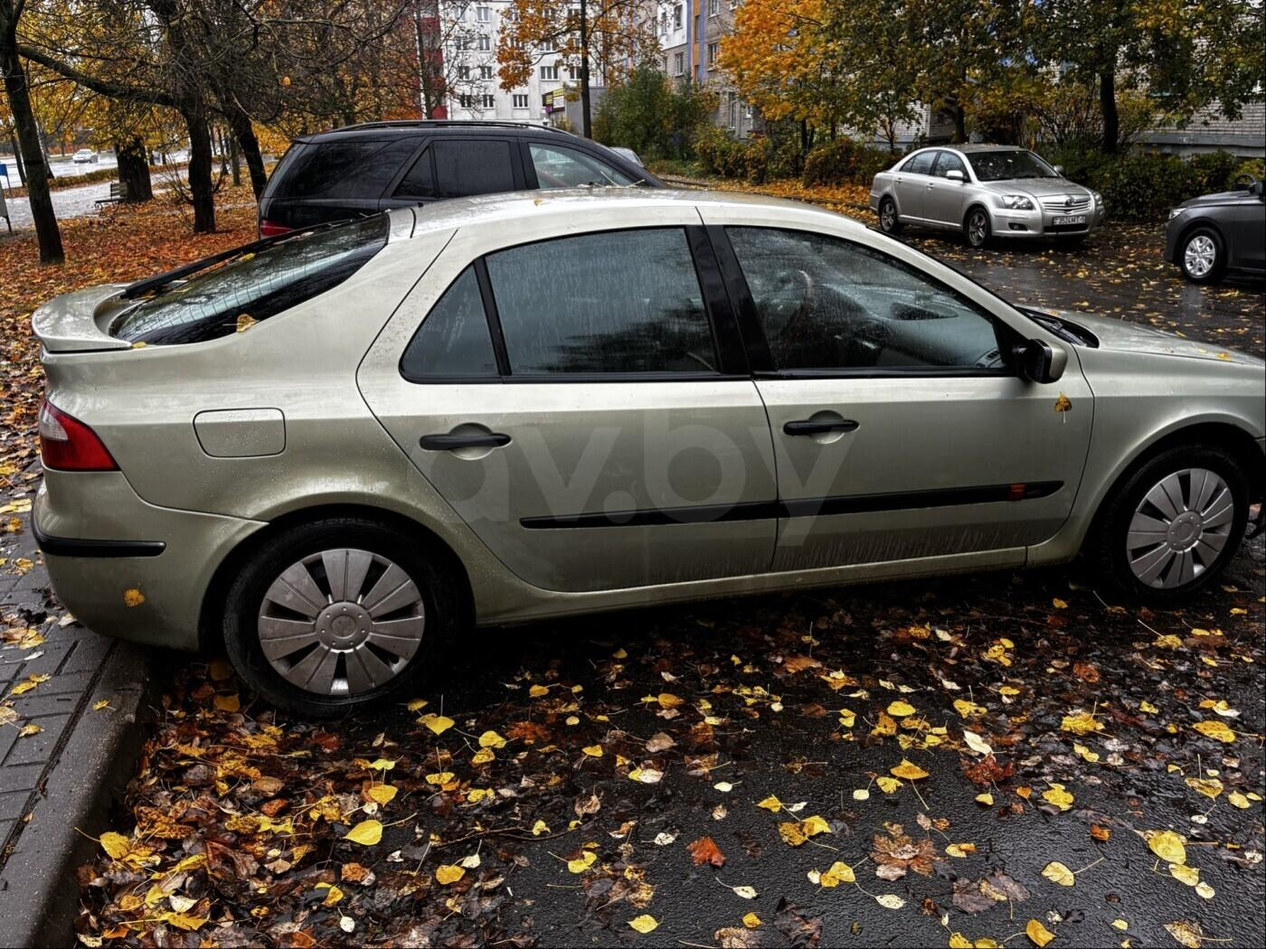Laguna_2001-2005: (33, 189, 1265, 717)
